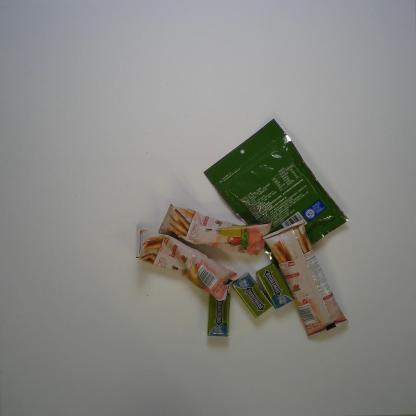Dessert: (262, 218, 350, 339), (134, 224, 237, 302), (157, 203, 272, 257)
Dried Fruit: (202, 118, 350, 270)
Gum: (230, 270, 273, 319), (255, 261, 295, 312), (206, 293, 232, 338)
